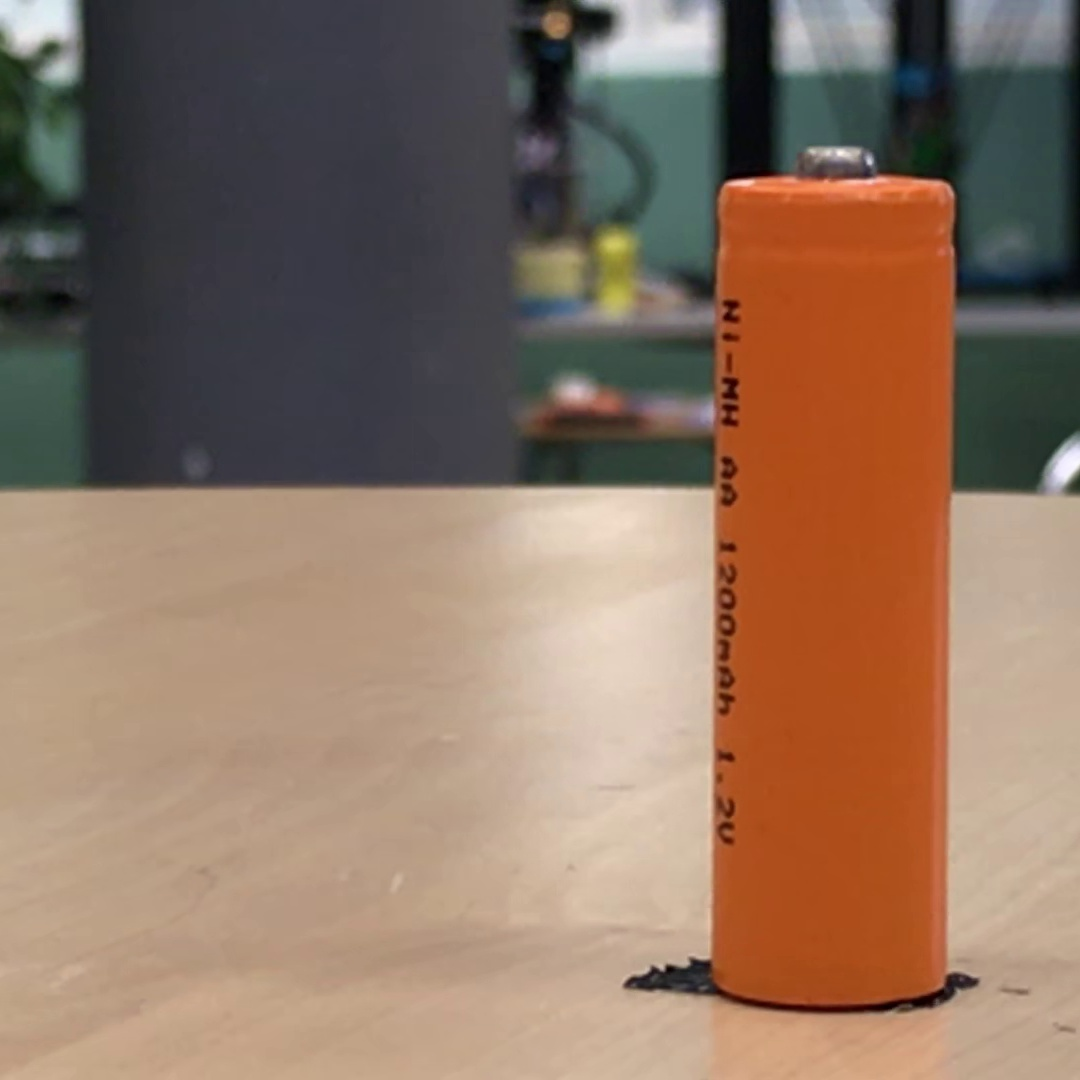keyword: (712, 290, 749, 436)
